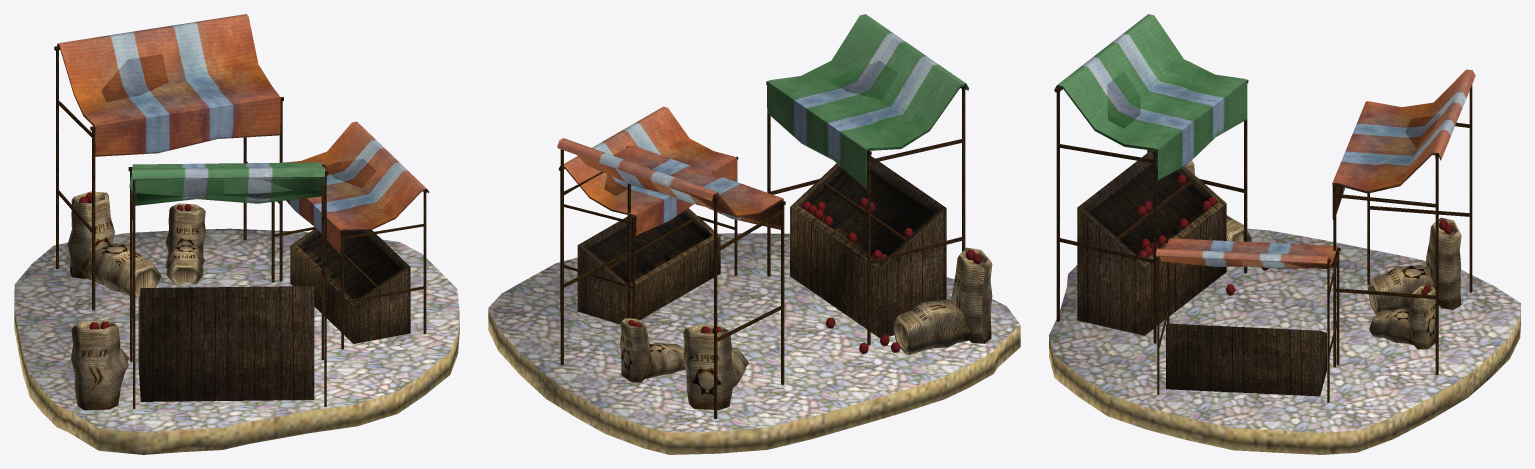
File: market.fbx
3 views of the same model, side by side, from view 1: azimuth 30°, elevation 25°; view 2: azimuth 150°, elevation 25°; view 3: azimuth 270°, elevation 25° (orthographic).
Parts seen in each view (by area): view 1: Circle, stanek1, stanek3, stanek2; view 2: Circle, stanek1, stanek2, stanek3; view 3: Circle, stanek1, stanek3, stanek2.
Part boxes in pixels (box(x1,y1,x2,y2)): Circle: box(14, 228, 459, 454); stanek1: box(71, 162, 328, 410); stanek3: box(54, 14, 283, 310); stanek2: box(271, 121, 429, 349); Circle: box(488, 233, 1020, 454); stanek1: box(766, 14, 992, 354); stanek2: box(558, 106, 738, 324); stanek3: box(557, 138, 785, 419); Circle: box(1049, 228, 1520, 454); stanek1: box(1054, 14, 1268, 343); stanek3: box(1332, 69, 1475, 375); stanek2: box(1156, 238, 1340, 402).
Size of the model in its own units: 104 by 60.42 by 99.99.
4 materials, 4 textured.
